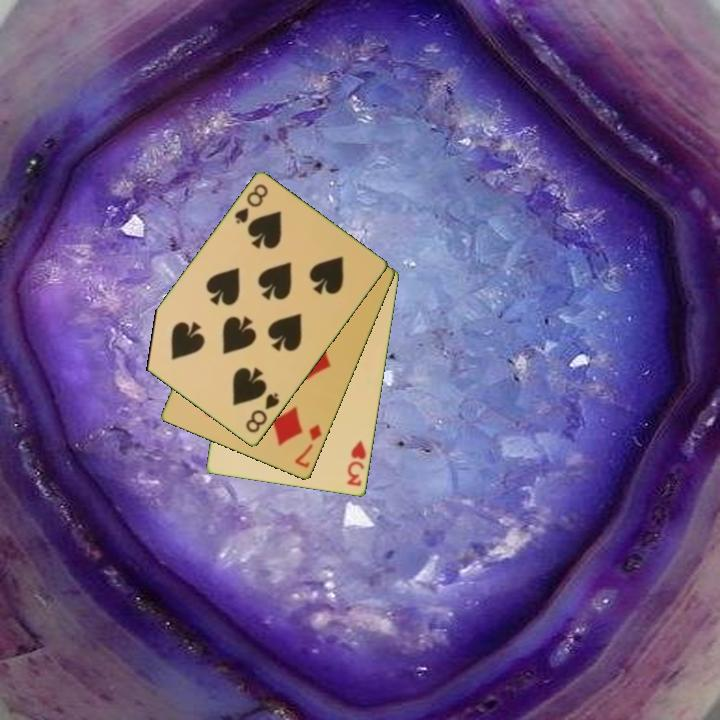3h: (344, 437, 369, 489)
7d: (291, 421, 325, 471)
8s: (242, 389, 283, 436), (231, 180, 271, 228)
